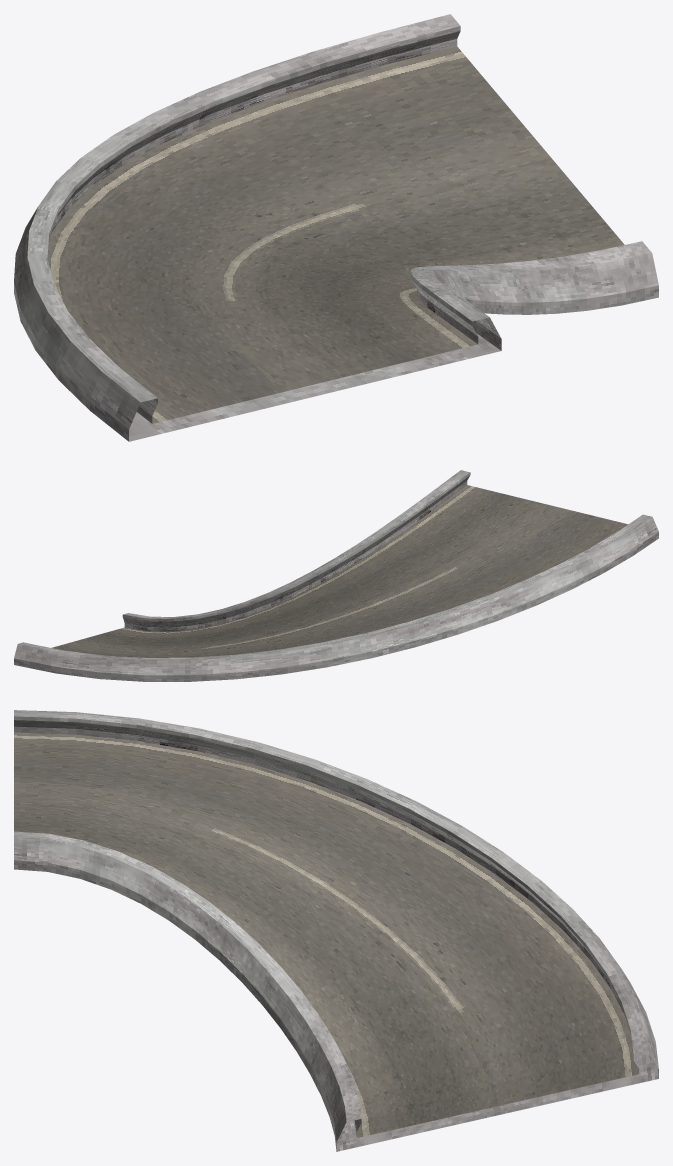
Rendered from road-Turn-Flat-HalfBankedRight-Down2-Right-Size2.glb.
The picture shows the model from 3 angles, top to bottom: view 1: azimuth 30°, elevation 25°; view 2: azimuth 150°, elevation 25°; view 3: azimuth 270°, elevation 25°; orthographic projection. The views are drawn at different scales.
Visible parts, largest first — view 1: road-Turn-Flat-HalfBankedRight-Down2-Right-Size2; view 2: road-Turn-Flat-HalfBankedRight-Down2-Right-Size2; view 3: road-Turn-Flat-HalfBankedRight-Down2-Right-Size2.
Part boxes in pixels (<box>): road-Turn-Flat-HalfBankedRight-Down2-Right-Size2: <box>14,14,658,441</box>; road-Turn-Flat-HalfBankedRight-Down2-Right-Size2: <box>14,470,658,681</box>; road-Turn-Flat-HalfBankedRight-Down2-Right-Size2: <box>14,710,658,1151</box>.
Bounding box in the file's own units: 2 × 0.5938 × 2.
Materials: 2 (2 with a texture image).
